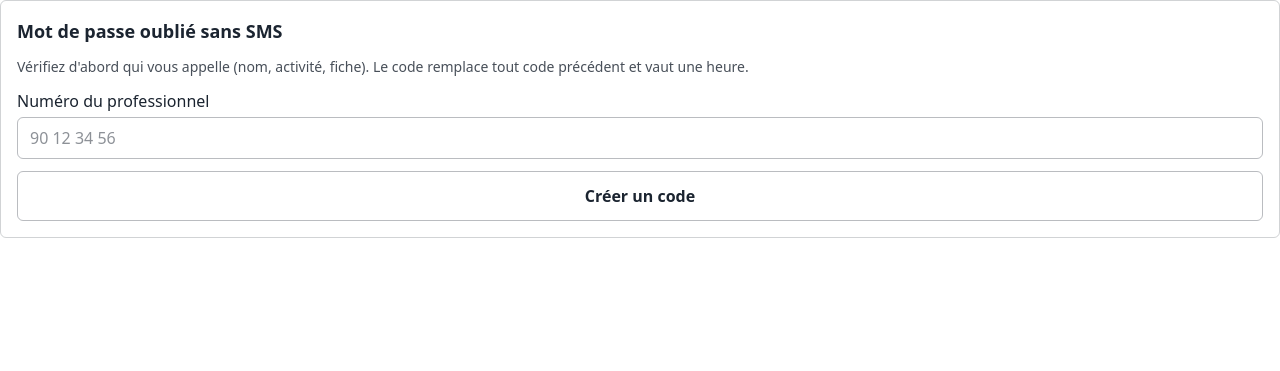
ResetCodeForm › shows the code once, with the name to check
Type "97 80 00 01" into the field labelled "Numéro du professionnel" at (640, 138), box [17,117,1263,159]
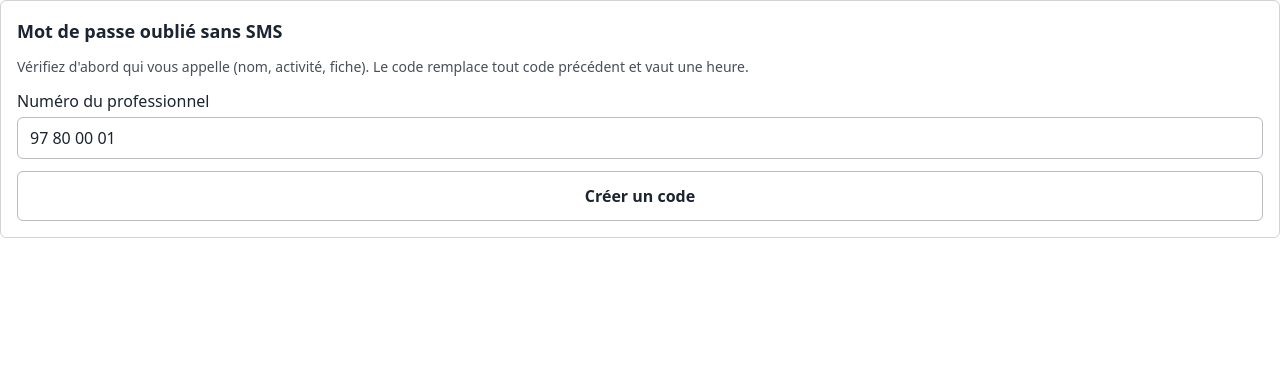
Click the button "Créer un code" at (640, 196), box [17,171,1263,221]
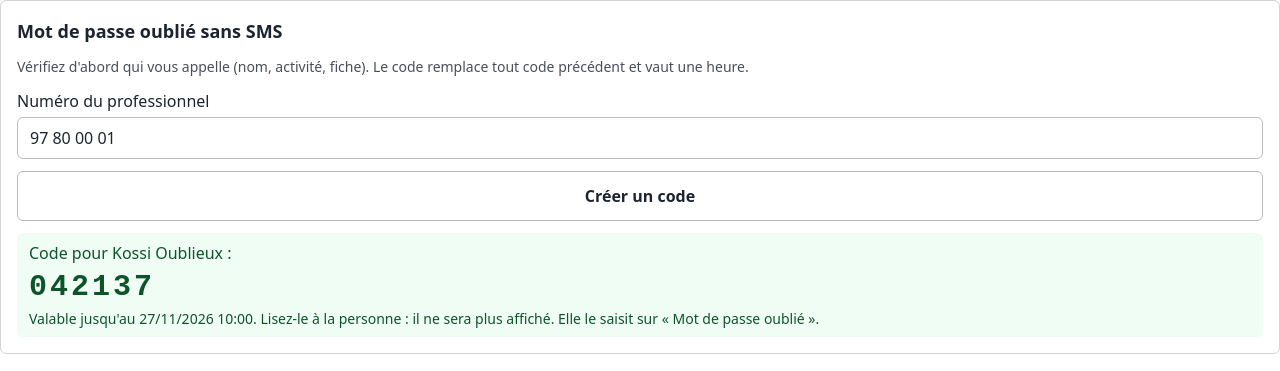
Expected: the text "042137" is shown, [29,270,155,304]
Expected: the text "Code pour Kossi Oublieux :" is shown, [29,242,232,264]
